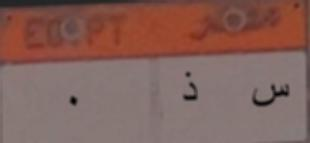0: (60, 87, 84, 117)
seen: (246, 75, 295, 110)
zaal: (175, 67, 204, 107)
